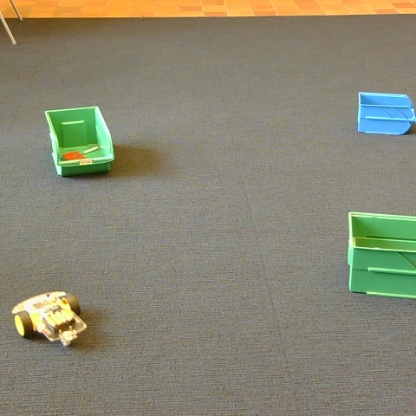robot: (13, 291, 86, 345)
